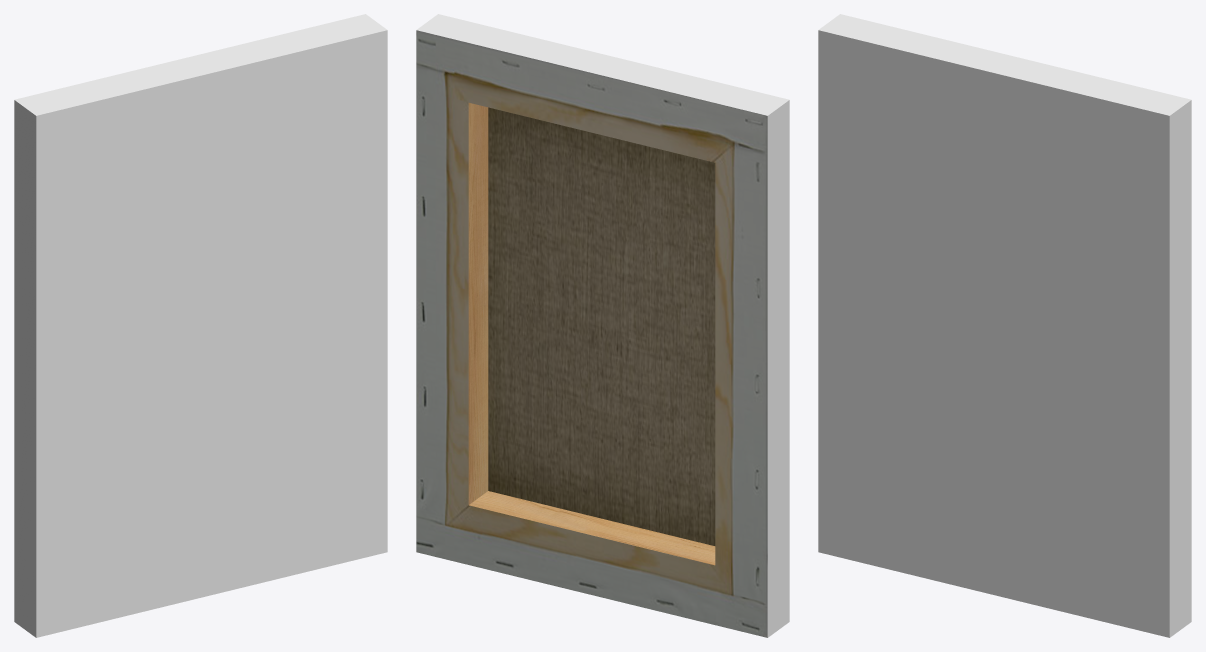
File: Canvas 1.FBX
The picture shows the model from 3 angles, left to right: view 1: azimuth 30°, elevation 25°; view 2: azimuth 150°, elevation 25°; view 3: azimuth 330°, elevation 25°; orthographic projection.
Parts seen in each view (by area): view 1: Canvas 1; view 2: Canvas 1; view 3: Canvas 1.
Part boxes in pixels (box(x1,y1,x2,y2)): Canvas 1: box(14, 14, 387, 637); Canvas 1: box(416, 14, 789, 637); Canvas 1: box(818, 14, 1191, 637).
Size of the model in its own units: 660 by 71.71 by 937.
1 material, 1 textured.
